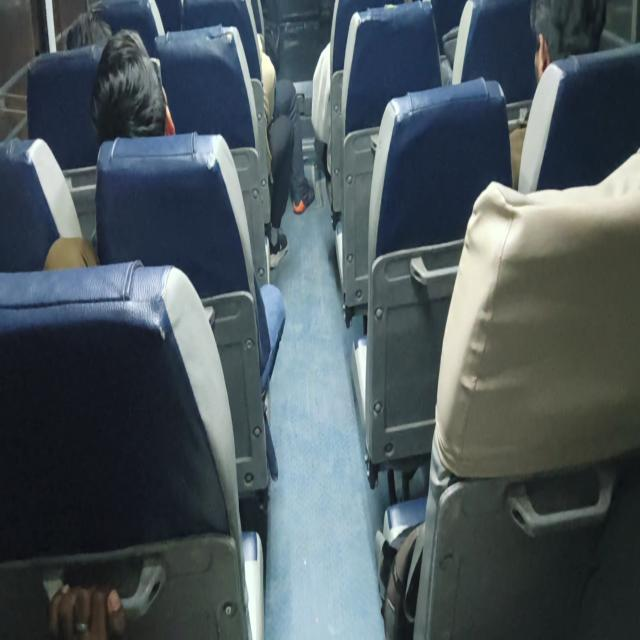person: (103, 28, 179, 136), (529, 0, 606, 75), (58, 8, 125, 48)
